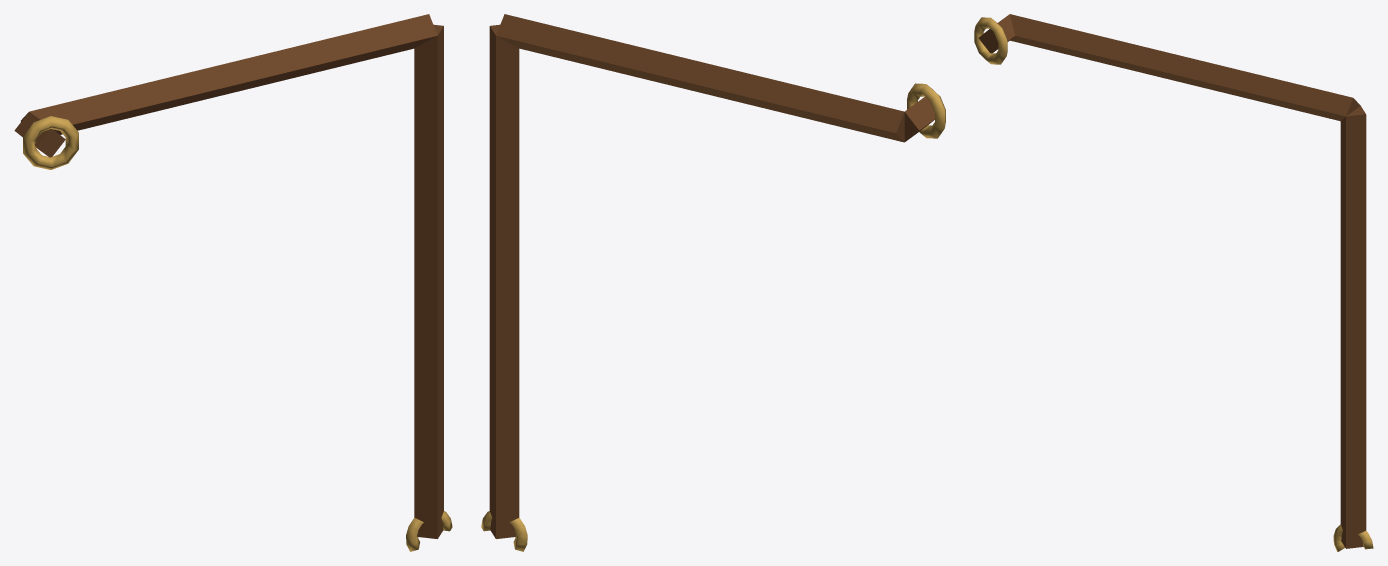
The model's file is Holder_Shield.fbx.
The picture shows the model from 3 angles, left to right: view 1: azimuth 30°, elevation 25°; view 2: azimuth 150°, elevation 25°; view 3: azimuth 330°, elevation 25°; orthographic projection. The views are drawn at different scales.
Visible parts, largest first — view 1: Holder_Shield; view 2: Holder_Shield; view 3: Holder_Shield.
Boxes of the visible parts, x1=… form: Holder_Shield: x1=14, y1=14, x2=452, y2=551; Holder_Shield: x1=481, y1=14, x2=945, y2=551; Holder_Shield: x1=974, y1=14, x2=1373, y2=551.
Size of the model in its own units: 0.181 by 0.2111 by 0.0263.
